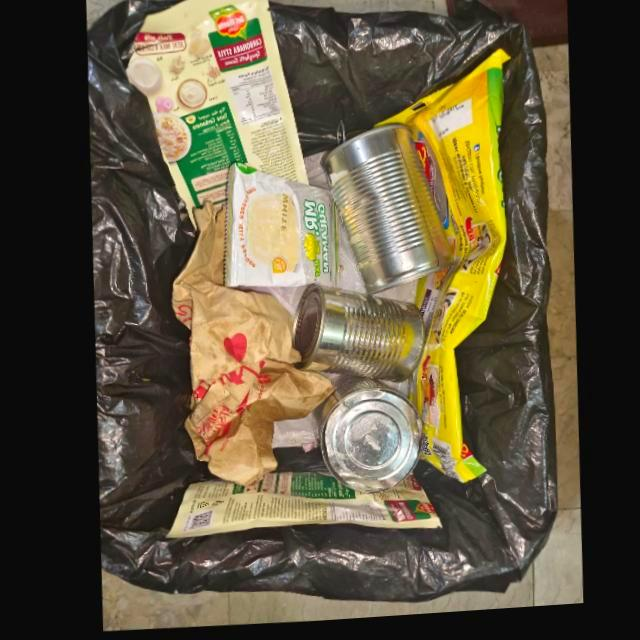aluminum: (322, 131, 449, 299), (288, 287, 420, 388), (307, 380, 418, 498)
food_wrapper: (373, 56, 508, 488), (125, 0, 306, 219), (160, 475, 436, 540)
paper: (168, 204, 331, 489)
plastic_sachet: (223, 166, 336, 292)
